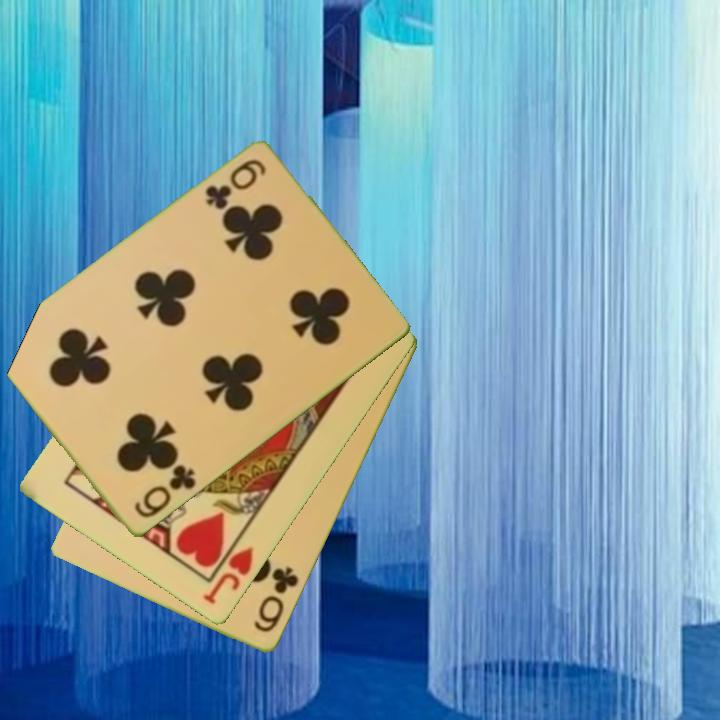6c: (130, 461, 199, 522), (201, 156, 269, 214), (250, 563, 302, 636)
Jh: (199, 543, 257, 608)
